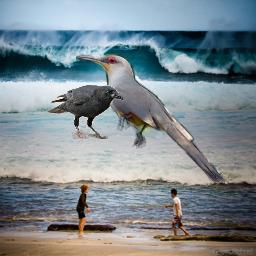Crow: (47, 85, 124, 139)
Cuckoo: (76, 53, 229, 188)
